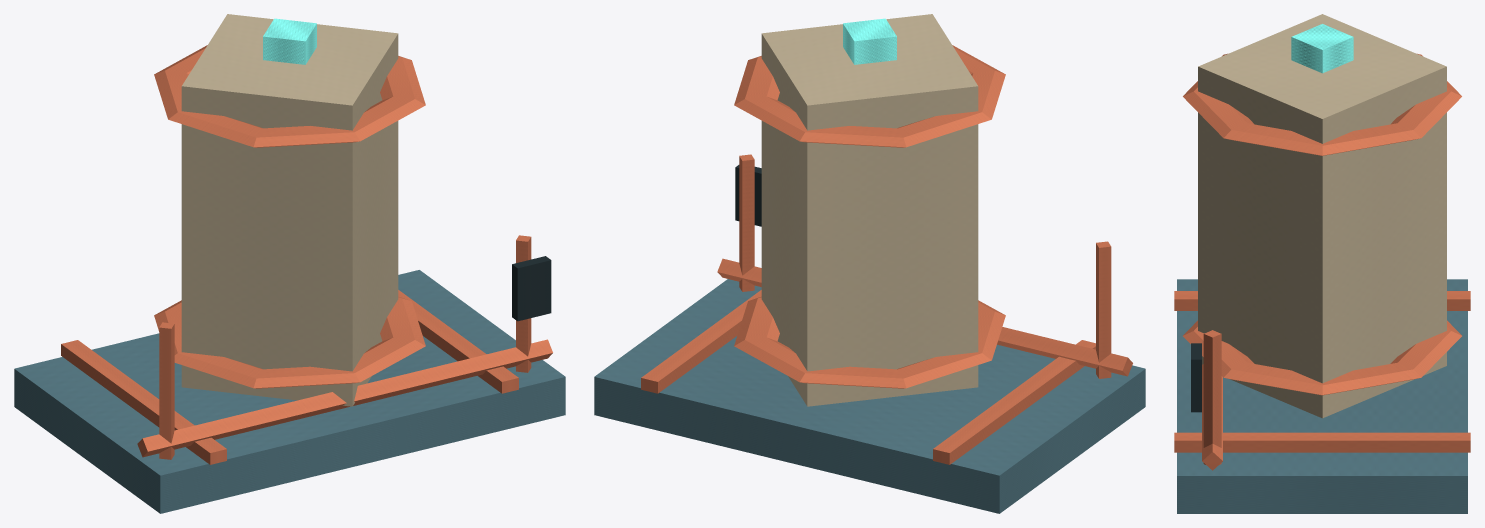
Rendered from atlas100-s042-a06.lod2.glb.
3 renders of one model, left to right at view 1: azimuth 30°, elevation 25°; view 2: azimuth 150°, elevation 25°; view 3: azimuth 270°, elevation 25°, orthographic.
Visible parts, largest first — view 1: atlas100-s042-a06:part-003, atlas100-s042-a06:part-000, atlas100-s042-a06:part-005, atlas100-s042-a06:part-012, atlas100-s042-a06:part-004, atlas100-s042-a06:part-001, atlas100-s042-a06:part-002, atlas100-s042-a06:part-011, atlas100-s042-a06:part-006, atlas100-s042-a06:part-008, atlas100-s042-a06:part-010; view 2: atlas100-s042-a06:part-003, atlas100-s042-a06:part-000, atlas100-s042-a06:part-005, atlas100-s042-a06:part-004, atlas100-s042-a06:part-001, atlas100-s042-a06:part-012, atlas100-s042-a06:part-002, atlas100-s042-a06:part-006, atlas100-s042-a06:part-008, atlas100-s042-a06:part-010, atlas100-s042-a06:part-011; view 3: atlas100-s042-a06:part-003, atlas100-s042-a06:part-000, atlas100-s042-a06:part-005, atlas100-s042-a06:part-004, atlas100-s042-a06:part-002, atlas100-s042-a06:part-006, atlas100-s042-a06:part-010, atlas100-s042-a06:part-001, atlas100-s042-a06:part-011, atlas100-s042-a06:part-012.
Boxes of the visible parts, x1,y1,x2,y2 form: atlas100-s042-a06:part-003: [181, 14, 398, 406]; atlas100-s042-a06:part-000: [14, 270, 565, 513]; atlas100-s042-a06:part-005: [154, 45, 425, 147]; atlas100-s042-a06:part-012: [137, 339, 552, 457]; atlas100-s042-a06:part-004: [154, 297, 425, 388]; atlas100-s042-a06:part-001: [61, 340, 226, 464]; atlas100-s042-a06:part-002: [398, 290, 518, 393]; atlas100-s042-a06:part-011: [512, 256, 551, 321]; atlas100-s042-a06:part-006: [263, 18, 316, 64]; atlas100-s042-a06:part-008: [159, 322, 174, 459]; atlas100-s042-a06:part-010: [516, 235, 531, 372]; atlas100-s042-a06:part-003: [761, 14, 978, 406]; atlas100-s042-a06:part-000: [594, 279, 1145, 513]; atlas100-s042-a06:part-005: [734, 45, 1005, 147]; atlas100-s042-a06:part-004: [734, 297, 1005, 388]; atlas100-s042-a06:part-001: [933, 340, 1095, 464]; atlas100-s042-a06:part-012: [717, 258, 1132, 376]; atlas100-s042-a06:part-002: [641, 290, 761, 393]; atlas100-s042-a06:part-006: [843, 18, 896, 64]; atlas100-s042-a06:part-008: [1096, 241, 1111, 378]; atlas100-s042-a06:part-010: [739, 154, 754, 291]; atlas100-s042-a06:part-011: [735, 165, 761, 226]; atlas100-s042-a06:part-003: [1198, 14, 1446, 418]; atlas100-s042-a06:part-000: [1177, 279, 1467, 513]; atlas100-s042-a06:part-005: [1183, 53, 1461, 155]; atlas100-s042-a06:part-004: [1183, 320, 1461, 395]; atlas100-s042-a06:part-002: [1174, 432, 1470, 452]; atlas100-s042-a06:part-006: [1291, 24, 1353, 73]; atlas100-s042-a06:part-010: [1203, 330, 1221, 464]; atlas100-s042-a06:part-001: [1174, 291, 1470, 310]; atlas100-s042-a06:part-011: [1191, 343, 1201, 412]; atlas100-s042-a06:part-012: [1202, 364, 1222, 470].
Bounding box in the file's own units: 2.88 × 2.59 × 1.84.
5 materials, 5 textured.
